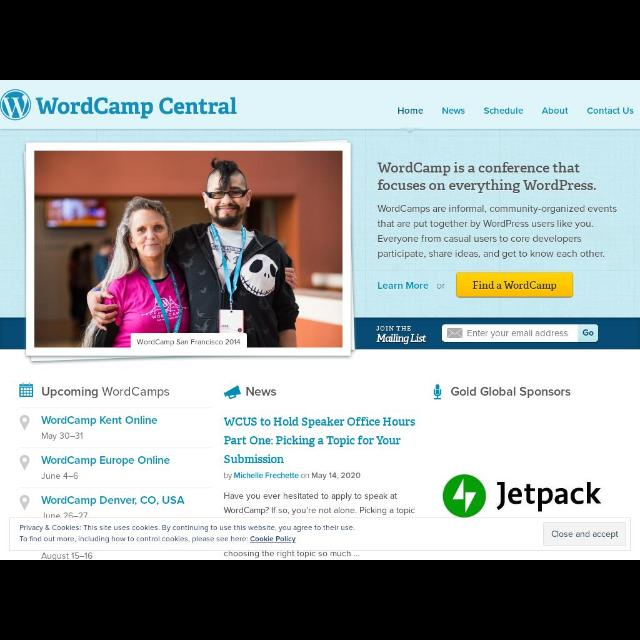icon: (223, 384, 240, 400), (19, 382, 33, 398), (433, 384, 445, 400), (447, 328, 463, 338), (20, 455, 30, 471), (19, 495, 29, 511), (20, 416, 30, 430), (403, 130, 417, 134)
iframe: (10, 518, 630, 550)
image: (34, 150, 342, 348), (0, 89, 236, 121), (442, 474, 602, 518)
input: (442, 324, 578, 342)
text: (378, 161, 616, 259), (223, 417, 414, 463), (223, 491, 414, 515), (41, 496, 185, 518), (41, 456, 169, 478), (41, 416, 157, 440), (42, 386, 168, 398), (452, 386, 570, 398), (224, 472, 360, 481), (586, 98, 636, 120), (472, 280, 556, 292), (468, 329, 568, 338), (376, 326, 426, 344), (137, 338, 241, 346), (224, 552, 360, 558), (552, 531, 618, 539), (378, 280, 428, 290), (244, 384, 278, 398), (41, 552, 93, 560), (483, 107, 523, 115), (397, 106, 423, 115), (541, 106, 569, 114), (442, 106, 466, 114), (582, 329, 594, 336), (436, 283, 446, 289)
textbutton: (456, 272, 574, 298), (544, 522, 626, 546), (578, 324, 598, 342)
toolbar: (1, 80, 640, 130)
